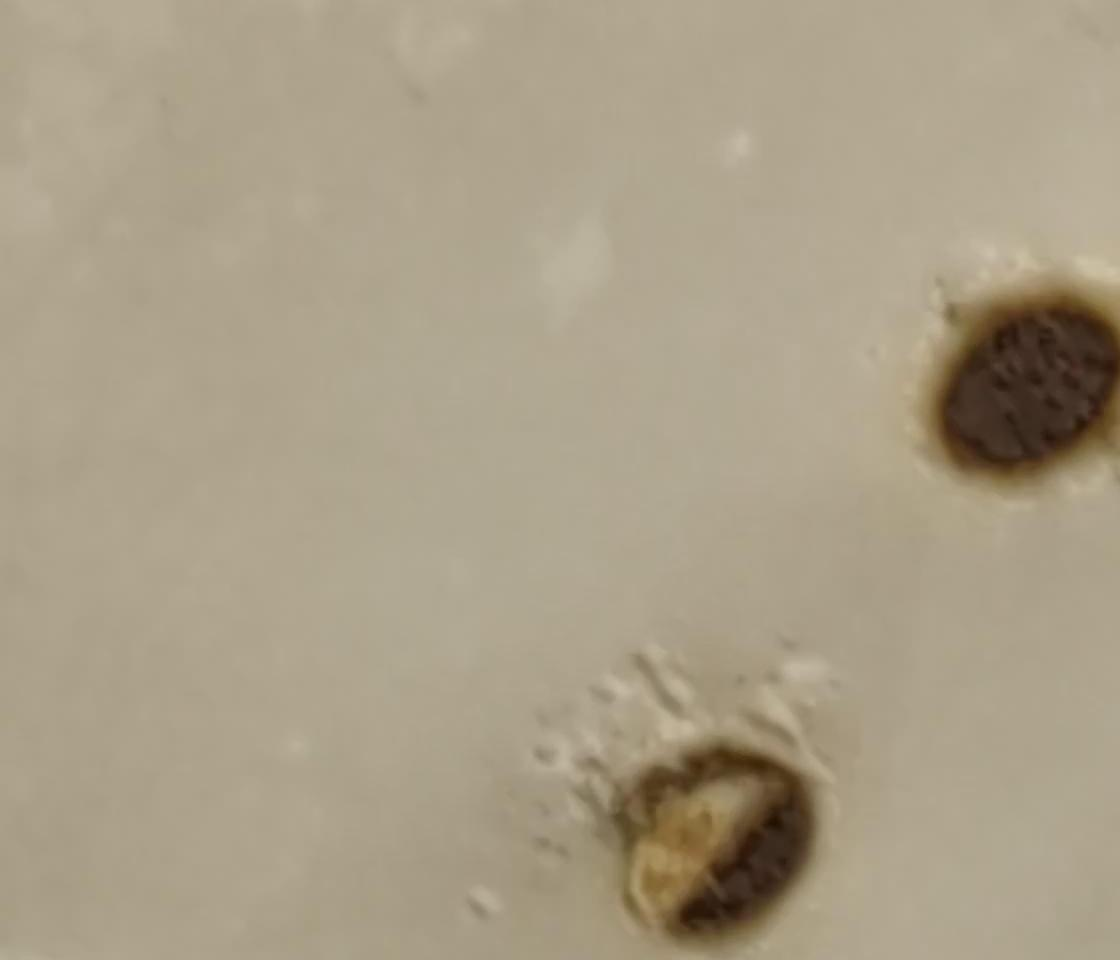rust: (600, 740, 818, 935), (942, 293, 1117, 483)
